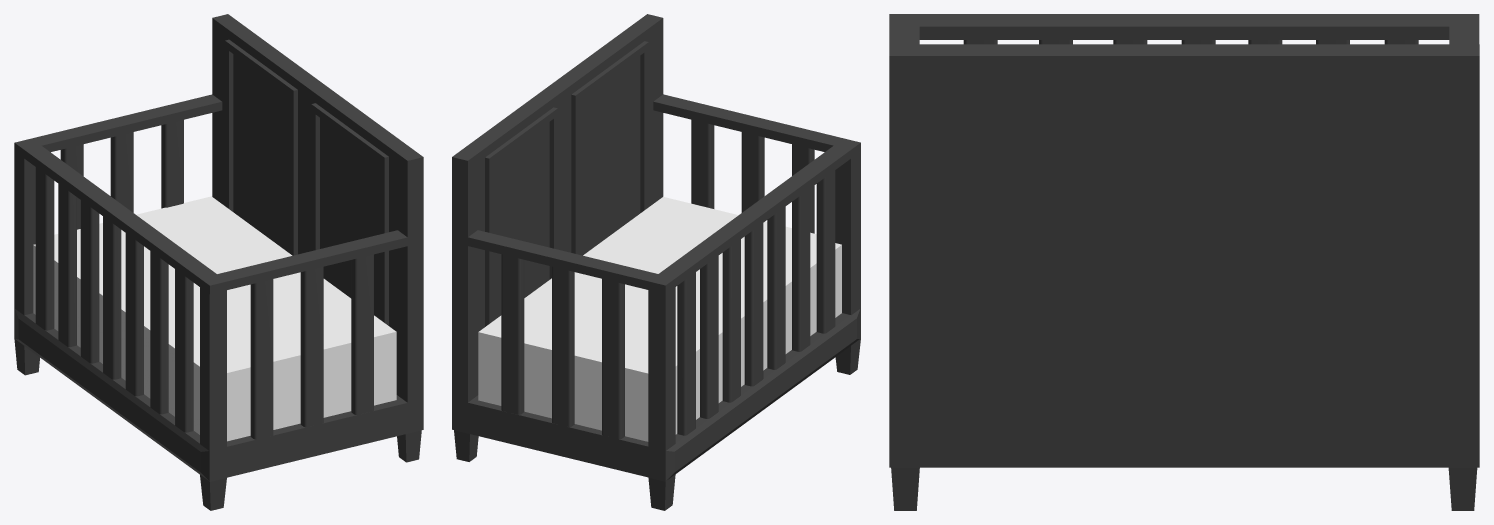
The model's file is Crib.fbx.
The picture shows the model from 3 angles, left to right: view 1: azimuth 30°, elevation 25°; view 2: azimuth 150°, elevation 25°; view 3: azimuth 270°, elevation 25°; orthographic projection. The views are drawn at different scales.
Visible parts, largest first — view 1: polySurface242; view 2: polySurface242; view 3: polySurface242.
Part boxes in pixels (x1,y1,x2,y2): polySurface242: [14, 14, 423, 510]; polySurface242: [452, 14, 860, 510]; polySurface242: [889, 14, 1479, 510].
Bounding box in the file's own units: 2.83 × 3.79 × 4.43.
